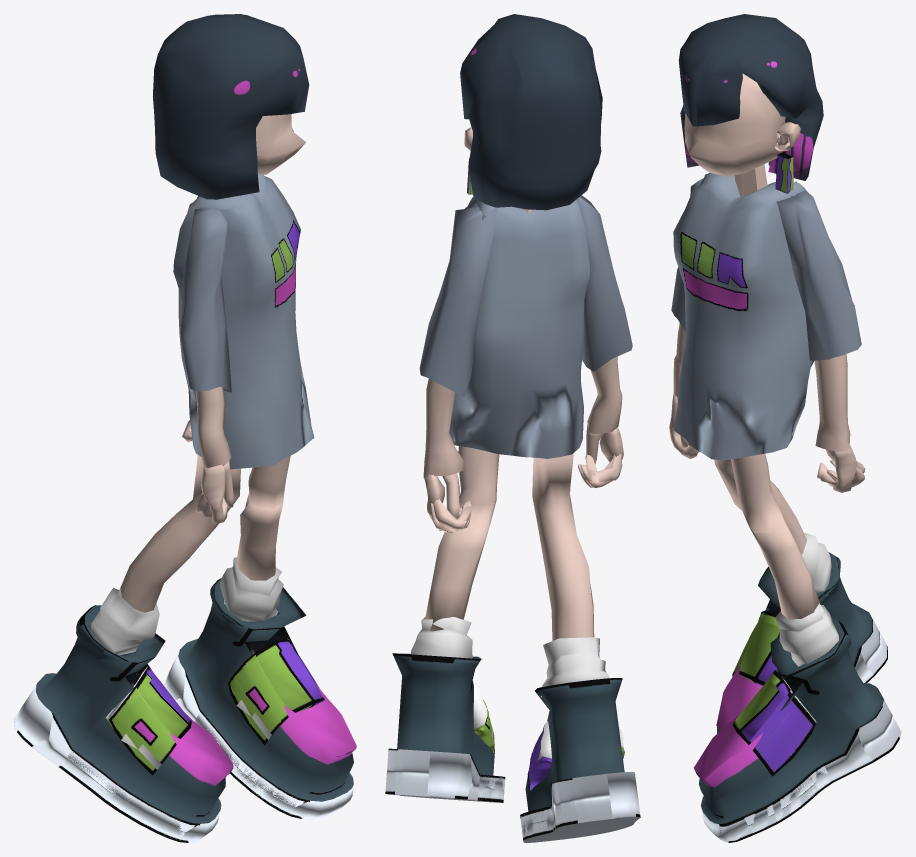
Rendered from helpme.glb.
3 views of the same model, side by side, from view 1: azimuth 30°, elevation 25°; view 2: azimuth 150°, elevation 25°; view 3: azimuth 270°, elevation 25° (orthographic). The views are drawn at different scales.
Visible parts, largest first — view 1: Cube, sole mesh.002, Cylinder.014, sole mesh, Cylinder.020, sole mesh.001, Cylinder.001, sole mesh.003, Cylinder.003, Cylinder.011, Cylinder.012, Cylinder.004 (+2 smaller); view 2: Cube, Cylinder.014, sole mesh.002, sole mesh, Cylinder.021, Cylinder.001, Cylinder.003, Cylinder.020, Cylinder.005, Cylinder.011, Cylinder.012, Cylinder.004 (+7 smaller); view 3: Cube, sole mesh, Cylinder.014, Cylinder.021, Cylinder.003, Cylinder.002, sole mesh.002, sole mesh.001, Cylinder.005, Cylinder.012, sole mesh.003, Cylinder.001 (+8 smaller).
Part boxes in pixels (left/top/right/bottom): Cube: left=173, top=174, right=314, bottom=469; sole mesh.002: left=14, top=605, right=233, bottom=842; Cylinder.014: left=153, top=14, right=309, bottom=199; sole mesh: left=163, top=578, right=356, bottom=819; Cylinder.020: left=180, top=208, right=231, bottom=392; sole mesh.001: left=228, top=638, right=324, bottom=745; Cylinder.001: left=120, top=455, right=240, bottom=612; sole mesh.003: left=106, top=666, right=191, bottom=775; Cylinder.003: left=237, top=455, right=290, bottom=580; Cylinder.011: left=90, top=587, right=159, bottom=655; Cylinder.012: left=220, top=557, right=283, bottom=621; Cylinder.004: left=195, top=386, right=231, bottom=467; Cube: left=449, top=197, right=589, bottom=458; Cylinder.014: left=460, top=14, right=602, bottom=210; sole mesh.002: left=520, top=678, right=640, bottom=842; sole mesh: left=385, top=653, right=505, bottom=802; Cylinder.021: left=419, top=199, right=497, bottom=396; Cylinder.001: left=532, top=453, right=594, bottom=640; Cylinder.003: left=425, top=446, right=499, bottom=631; Cylinder.020: left=577, top=195, right=632, bottom=371; Cylinder.005: left=423, top=379, right=463, bottom=477; Cylinder.011: left=541, top=637, right=609, bottom=697; Cylinder.012: left=410, top=617, right=472, bottom=658; Cylinder.004: left=587, top=356, right=622, bottom=433; Cube: left=673, top=173, right=813, bottom=460; sole mesh: left=694, top=617, right=901, bottom=842; Cylinder.014: left=678, top=14, right=823, bottom=180; Cylinder.021: left=776, top=181, right=861, bottom=360; Cylinder.003: left=731, top=453, right=819, bottom=619; Cylinder.002: left=684, top=73, right=785, bottom=176; sole mesh.002: left=716, top=552, right=887, bottom=733; sole mesh.001: left=733, top=670, right=816, bottom=776; Cylinder.005: left=814, top=354, right=851, bottom=451; Cylinder.012: left=775, top=603, right=838, bottom=666; sole mesh.003: left=732, top=610, right=779, bottom=685; Cylinder.001: left=714, top=459, right=806, bottom=554.
Bounding box in the file's own units: 1.58 × 4.45 × 1.21.
9 materials, 6 textured.
